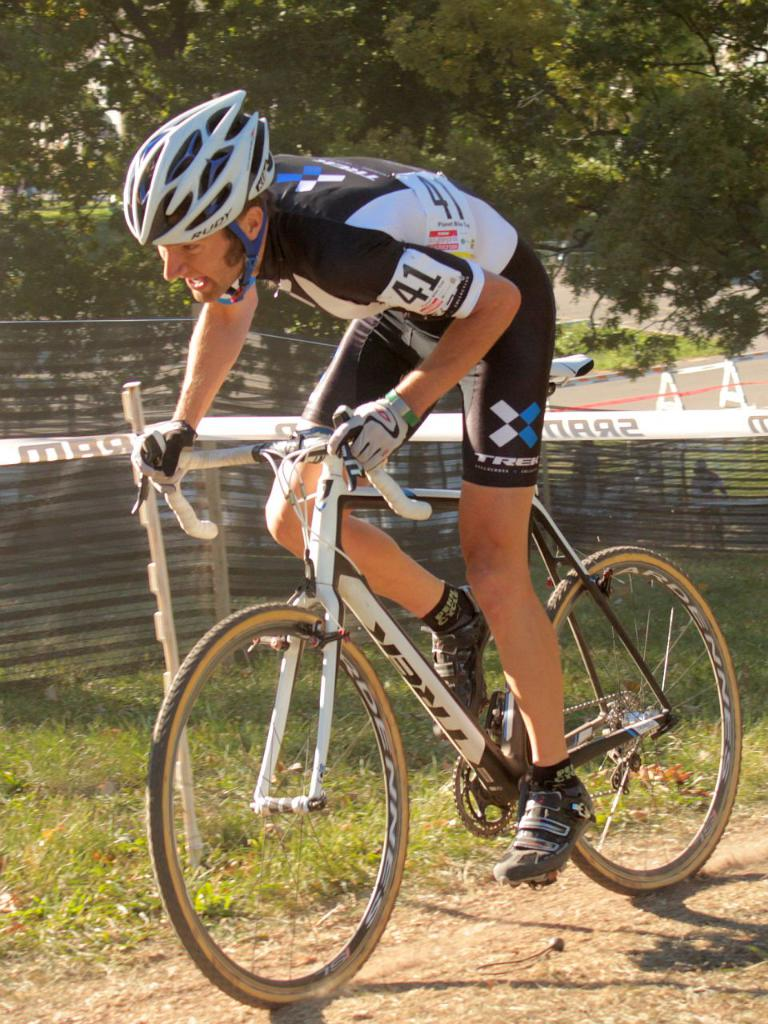Bike_toward: (131, 414, 751, 1005)
